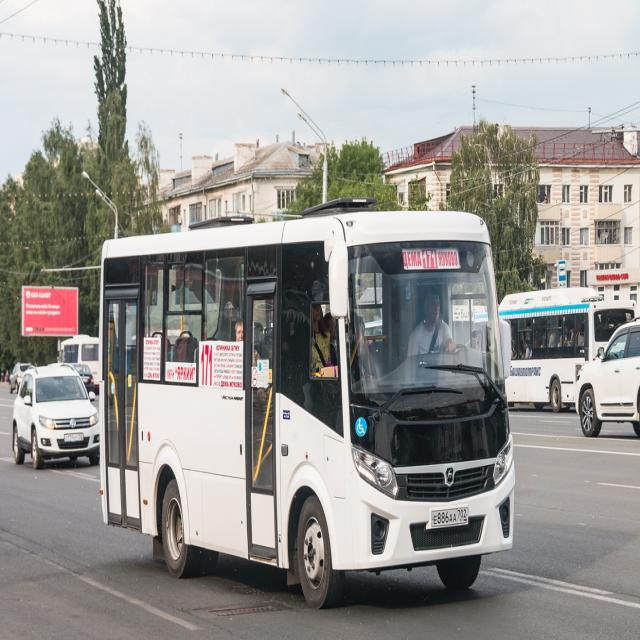number-of-bus: (201, 344, 214, 389), (423, 249, 438, 271)
